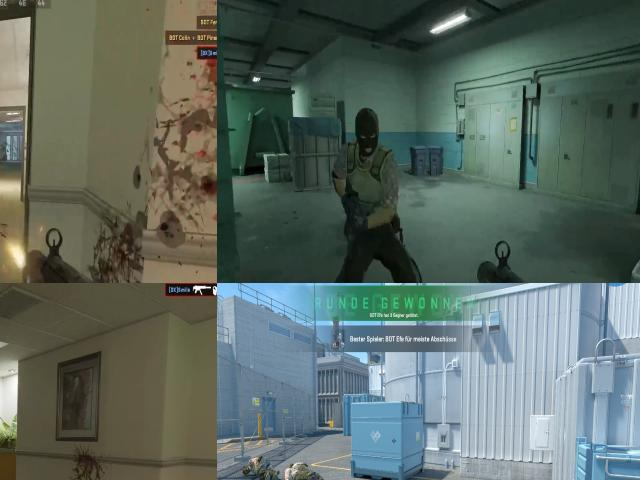Dead: (242, 454, 278, 480), (290, 459, 329, 480), (279, 469, 311, 480)
T-Head: (331, 128, 406, 250), (343, 103, 391, 158)
